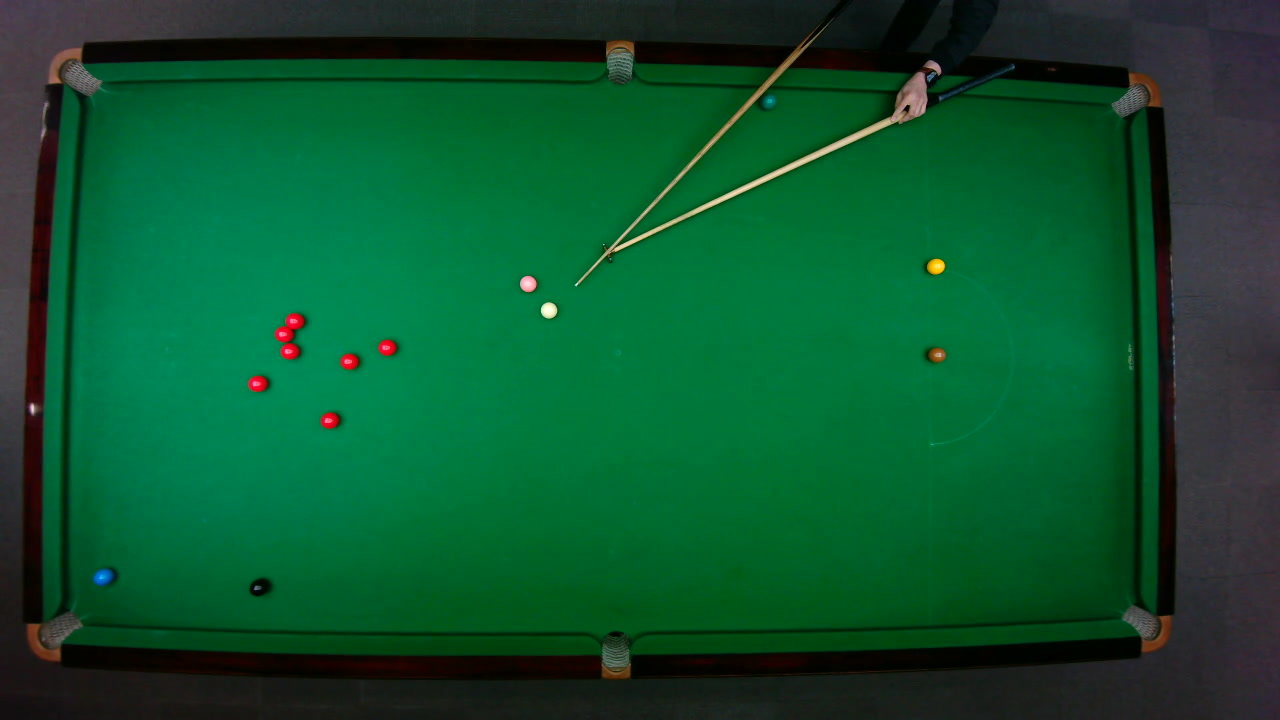bag: (24, 609, 84, 661), (45, 46, 102, 96), (1119, 603, 1171, 652), (1108, 71, 1161, 117), (600, 629, 629, 680), (605, 39, 633, 85)
black: (248, 577, 268, 596)
blue: (91, 566, 114, 586)
brown: (926, 346, 946, 362)
cue: (570, 0, 862, 290)
green: (760, 93, 777, 109)
pink: (518, 274, 537, 292)
red: (246, 373, 268, 392), (318, 410, 340, 429), (284, 311, 305, 330), (278, 342, 300, 359), (377, 338, 397, 356), (273, 324, 293, 342), (338, 352, 359, 369)
white: (538, 300, 558, 319)
yellow: (925, 257, 945, 274)
zone: (927, 267, 1013, 445)
